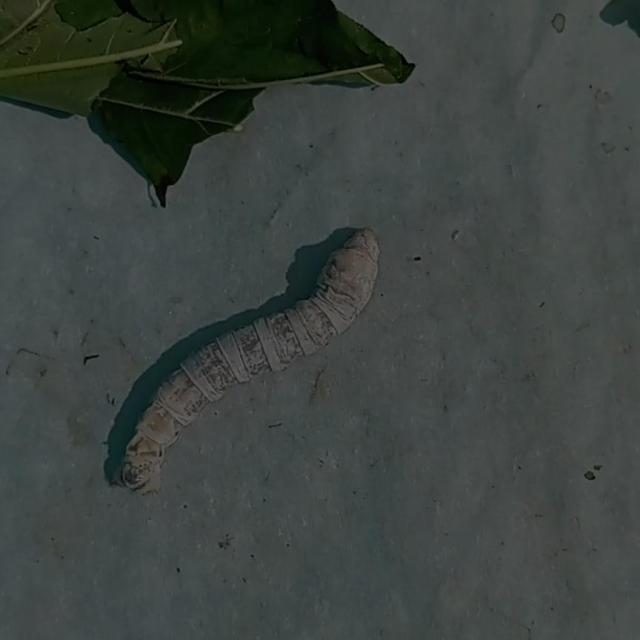Grasserie: (73, 206, 442, 514)
